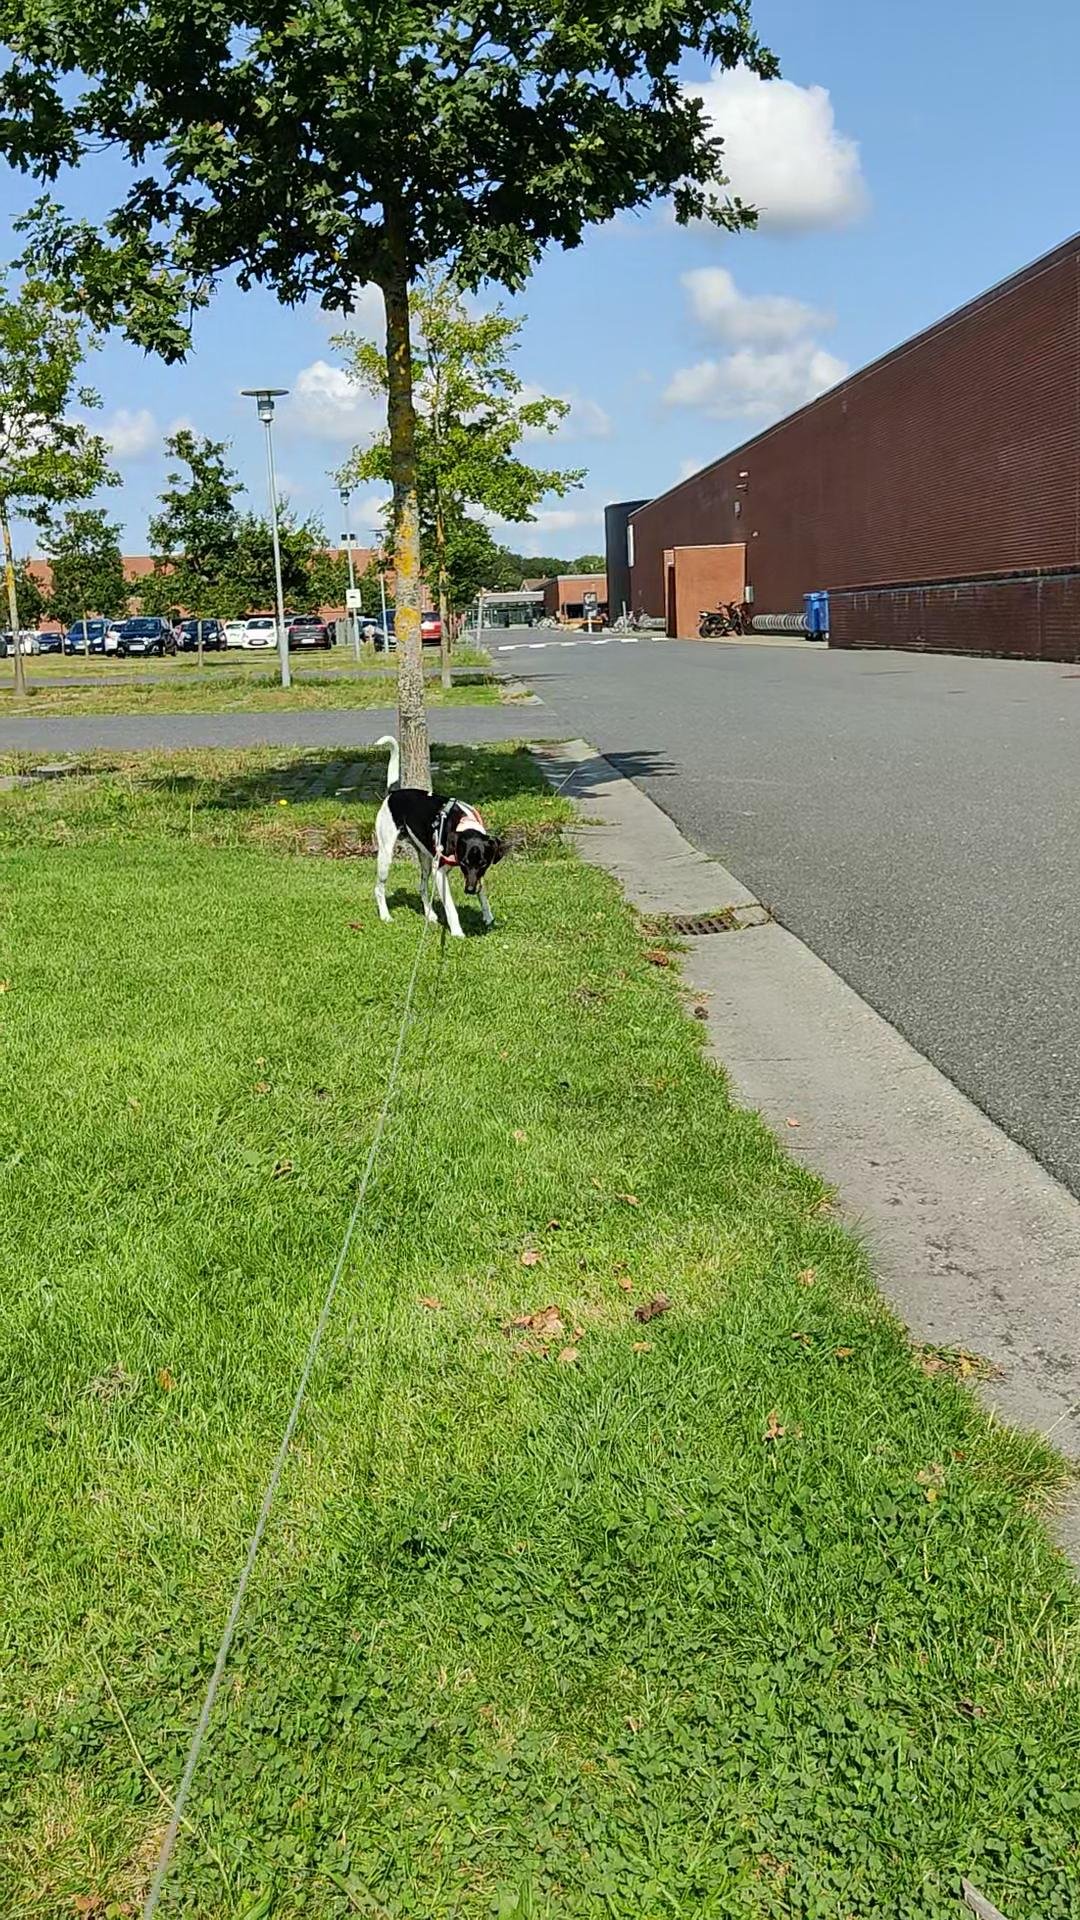Dog: (368, 732, 510, 943)
